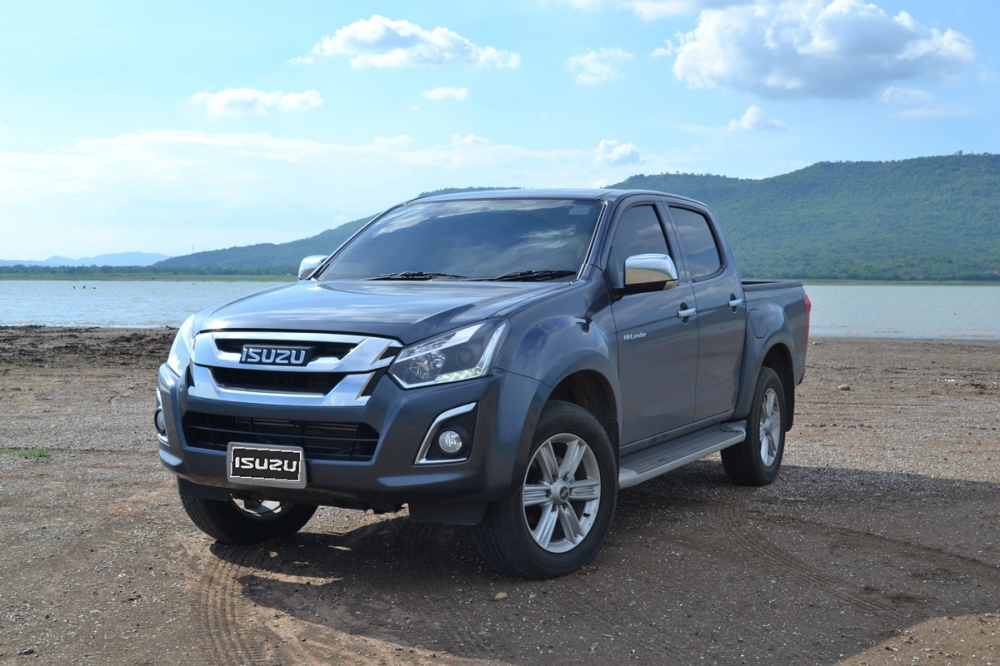pickup: (155, 183, 813, 564)
